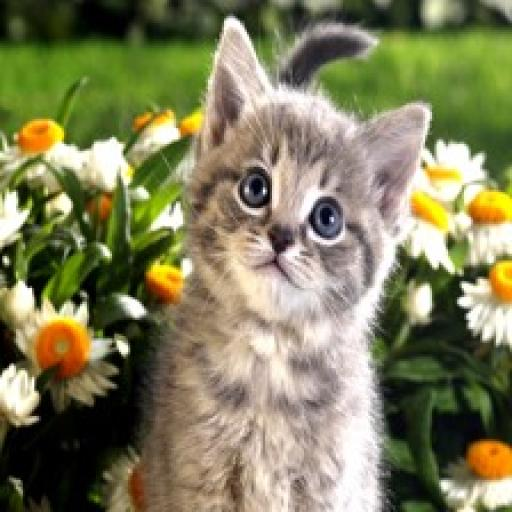cat: (98, 17, 451, 512)
